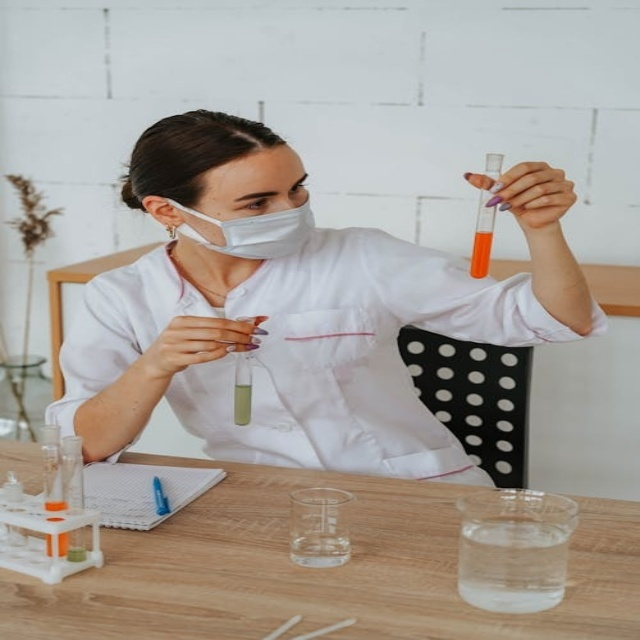Mascara: (166, 194, 316, 261)
Sin_gafas: (211, 170, 317, 214)
Sin_guantes: (464, 161, 578, 229), (151, 313, 270, 375)
Sin_mascara: (250, 316, 268, 327)
